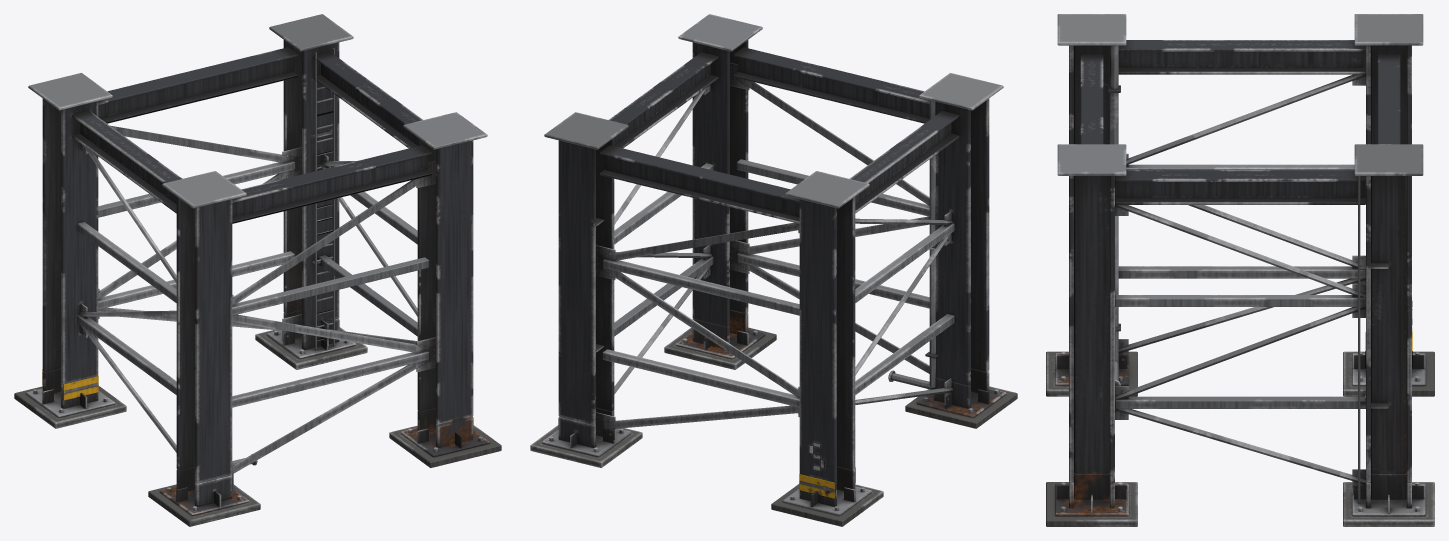
File: nodexeus-set-legs-5.glb
The picture shows the model from 3 angles, left to right: view 1: azimuth 30°, elevation 25°; view 2: azimuth 150°, elevation 25°; view 3: azimuth 270°, elevation 25°; orthographic projection. The views are drawn at different scales.
Parts seen in each view (by area): view 1: set-legs-5; view 2: set-legs-5; view 3: set-legs-5.
Boxes of the visible parts, x1,y1,x2,y2 form: set-legs-5: (14,14,501,526); set-legs-5: (530,14,1017,526); set-legs-5: (1046,14,1434,526).
Bounding box in the file's own units: 7.01 × 6.75 × 6.81.
1 material, 1 textured.
